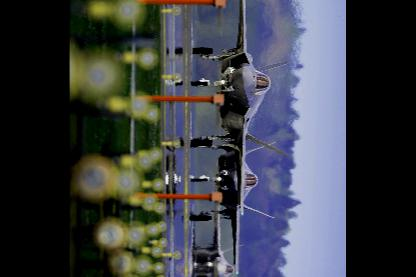F22: (192, 0, 289, 216), (195, 142, 276, 274), (193, 204, 245, 276)
